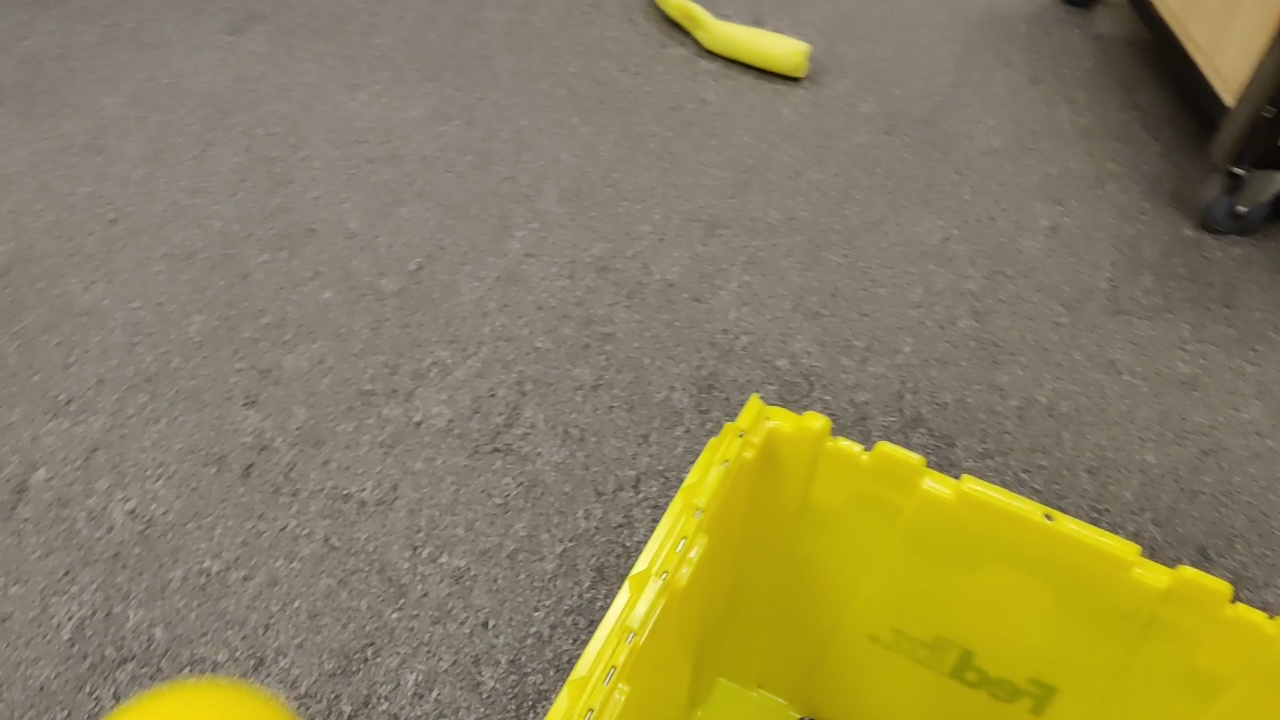Ball: (103, 677, 304, 718)
